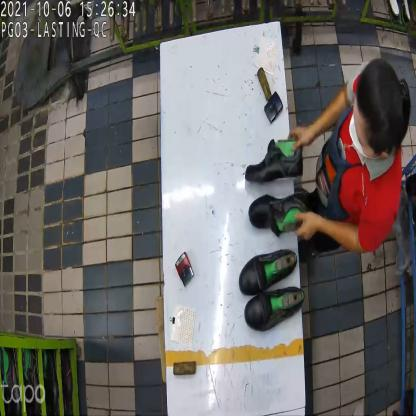shoes: (247, 138, 312, 230), (239, 249, 300, 319)
stamp: (264, 88, 284, 122), (177, 249, 193, 282)
